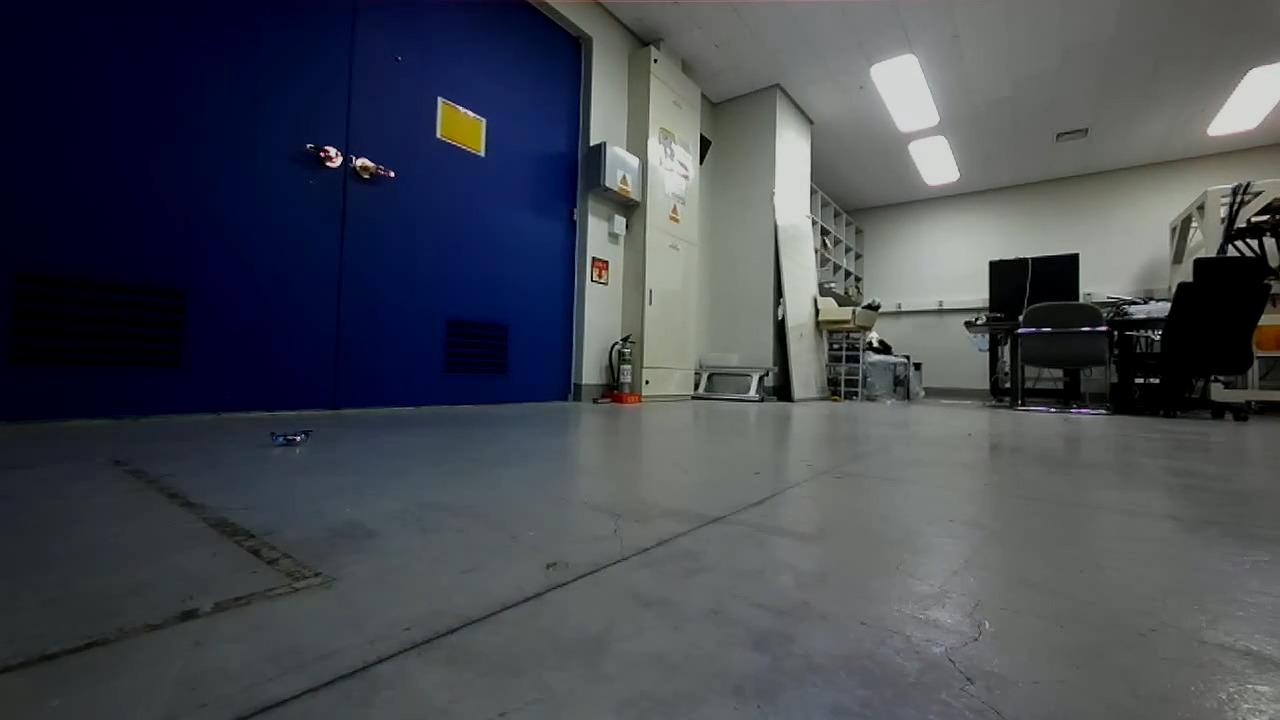crazyflie: (265, 419, 322, 455)
